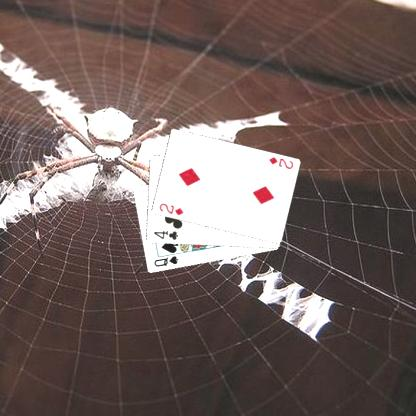2D: (156, 200, 184, 217), (266, 154, 294, 170)
4C: (151, 228, 179, 241)
QS: (151, 254, 180, 268)
